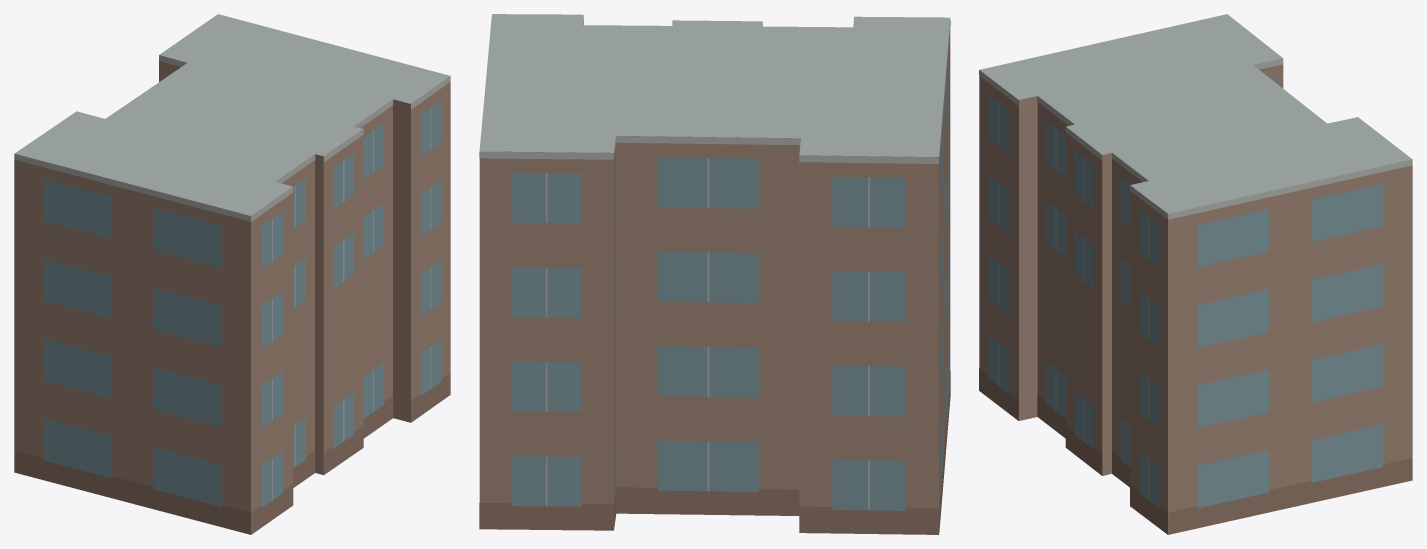
File: survey-upis-32899829.glb
3 views of the same model, side by side, from view 1: azimuth 30°, elevation 25°; view 2: azimuth 150°, elevation 25°; view 3: azimuth 270°, elevation 25° (orthographic). The views are drawn at different scales.
Parts seen in each view (by area): view 1: survey-upis-32899829.tmp; view 2: survey-upis-32899829.tmp; view 3: survey-upis-32899829.tmp.
Boxes of the visible parts, x1,y1,x2,y2 form: survey-upis-32899829.tmp: (14,14,450,534); survey-upis-32899829.tmp: (479,14,950,534); survey-upis-32899829.tmp: (979,14,1412,534).
Size of the model in its own units: 17.7 by 13.25 by 16.22.
